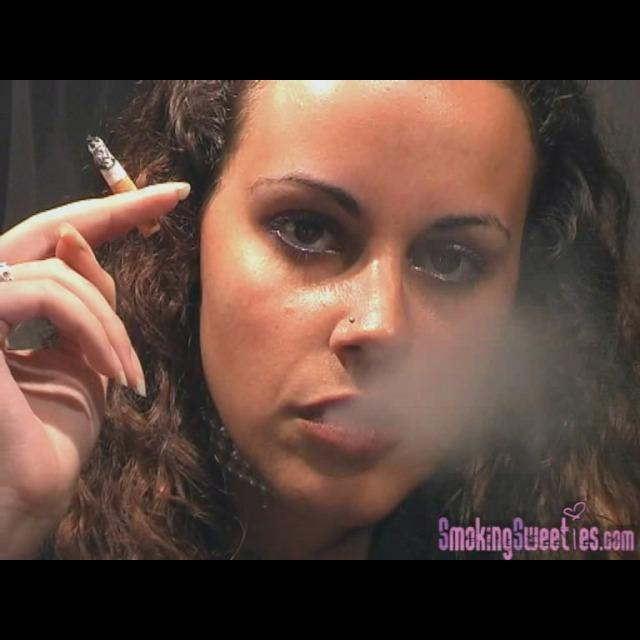rokok: (81, 133, 175, 243)
